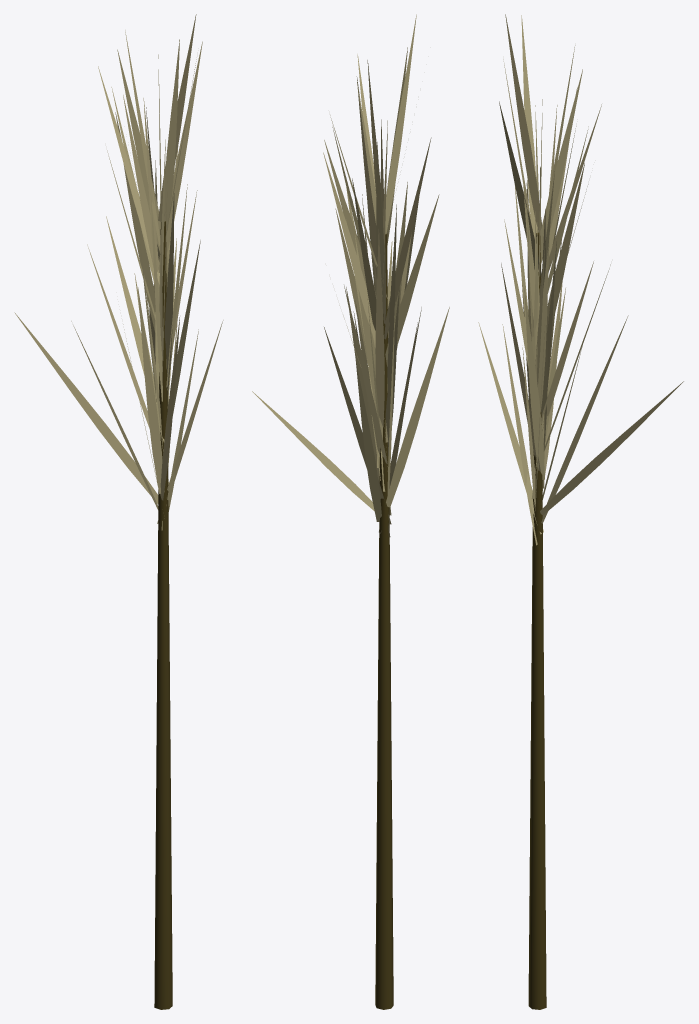
File: pampas.fbx
3 views of the same model, side by side, from view 1: azimuth 90°, elevation 25°; view 2: azimuth 150°, elevation 25°; view 3: azimuth 270°, elevation 25° (orthographic).
Parts seen in each view (by area): view 1: attribcreate2; view 2: attribcreate2; view 3: attribcreate2.
Boxes of the visible parts, <box> form: attribcreate2: <box>14,14,223,1009</box>; attribcreate2: <box>252,14,449,1009</box>; attribcreate2: <box>478,14,683,1009</box>.
Size of the model in its own units: 0.0284 by 0.2293 by 0.0435.
